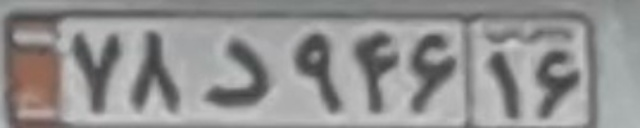1: (487, 49, 519, 116)
4: (354, 31, 397, 112)
6: (410, 33, 458, 113), (534, 50, 581, 117)
7: (69, 32, 118, 114)
8: (129, 30, 181, 113)
9: (292, 34, 343, 112)
dal: (200, 36, 271, 109)
